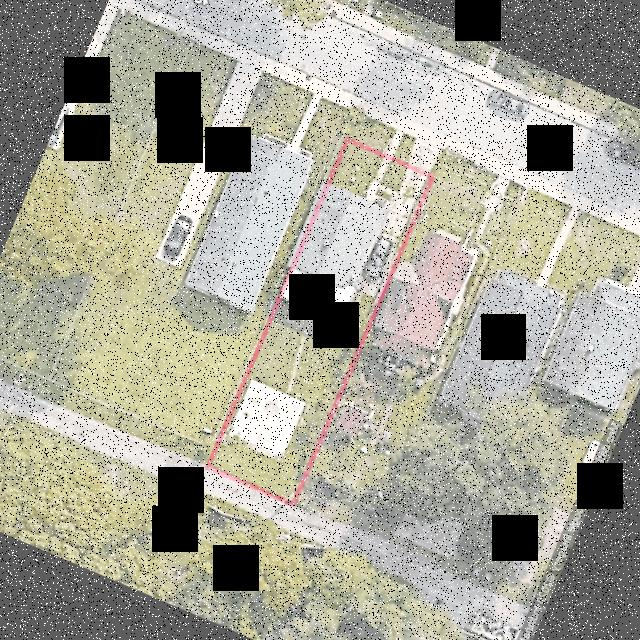Driveway: (356, 157, 427, 297)
Extra Driveway: (409, 138, 441, 171)
Extra Lawn: (348, 112, 392, 149)
Extra Sidewalk: (384, 128, 404, 156)
House: (282, 183, 388, 321)
Other: (229, 379, 305, 457)
Sidewalk: (287, 310, 314, 393)
